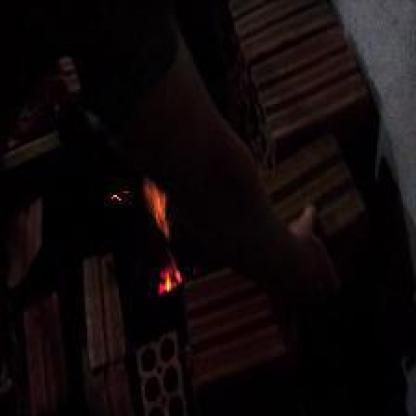fire: (97, 165, 200, 307)
